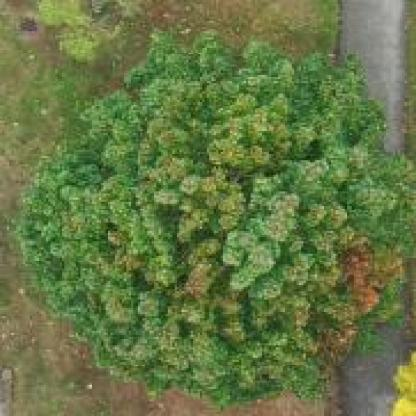Deciduous Tree: (2, 36, 416, 392)
